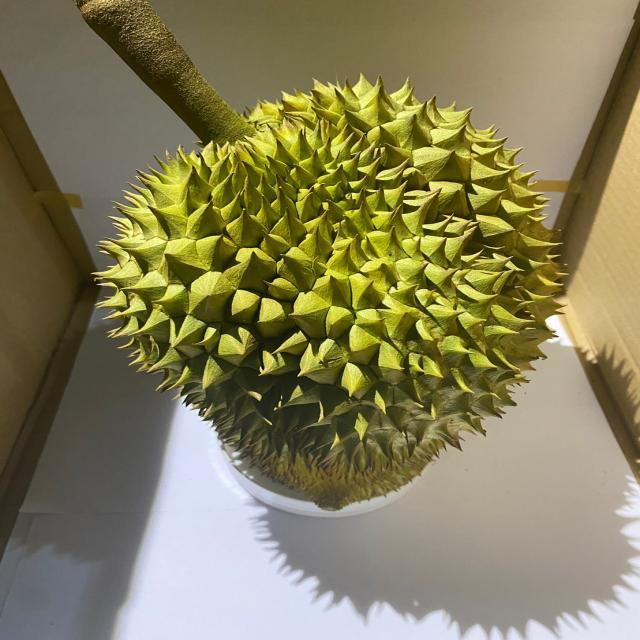immature: (92, 70, 568, 510)
